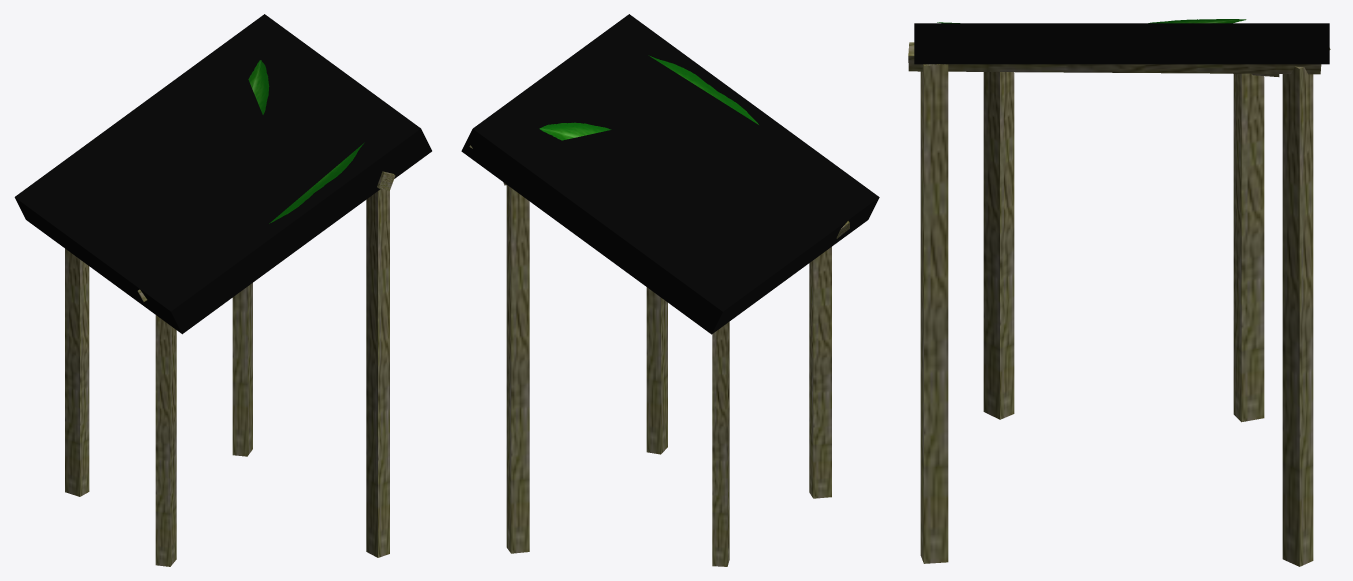
Rendered from shelter01.obj.
3 views of the same model, side by side, from view 1: azimuth 30°, elevation 25°; view 2: azimuth 150°, elevation 25°; view 3: azimuth 270°, elevation 25° (orthographic). The views are drawn at different scales.
Visible parts, largest first — view 1: Box01, Duplicate02, Duplicate01, Duplicate03, Duplicate11, Duplicate12; view 2: Box01, Duplicate03, Duplicate01, Duplicate02, Duplicate11, Duplicate12; view 3: Box01, Duplicate03, Duplicate02, Duplicate01, Duplicate05.
Boxes of the visible parts, x1,y1,x2,y2 form: Box01: (14, 14, 431, 496); Duplicate02: (366, 189, 389, 557); Duplicate01: (155, 315, 176, 566); Duplicate03: (232, 283, 252, 456); Duplicate11: (269, 142, 364, 223); Duplicate12: (248, 60, 269, 114); Box01: (461, 14, 879, 566); Duplicate03: (506, 185, 529, 553); Duplicate01: (809, 247, 831, 498); Duplicate02: (646, 287, 667, 454); Duplicate11: (648, 55, 758, 124); Duplicate12: (539, 122, 611, 140); Box01: (914, 23, 1329, 422); Duplicate03: (1282, 66, 1313, 566); Duplicate02: (920, 64, 948, 563); Duplicate01: (983, 72, 1014, 419); Duplicate05: (908, 42, 1321, 74).
Bounding box in the file's own units: 42.7 × 65.32 × 45.63.
